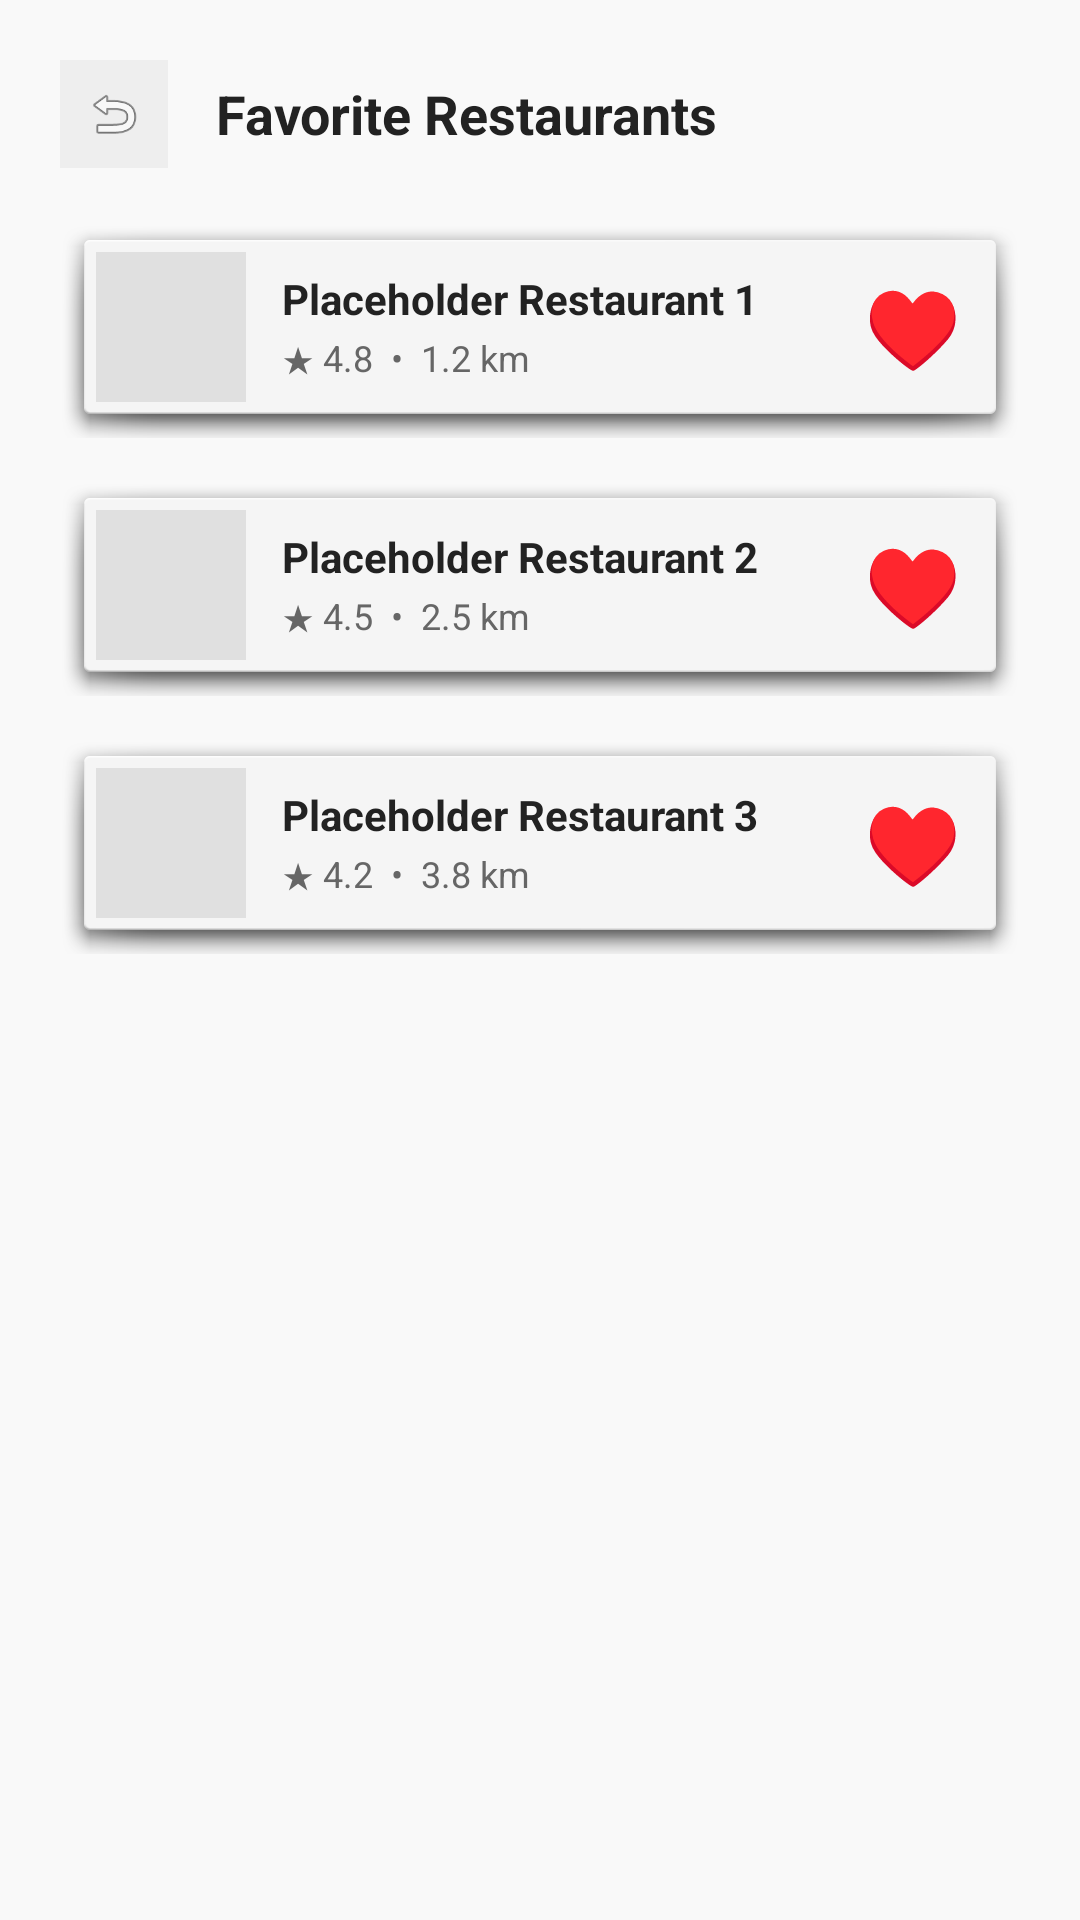

Named icons in this screenshot (1080px×1920px) and their centers, (x,y):
revert: (114,114)
